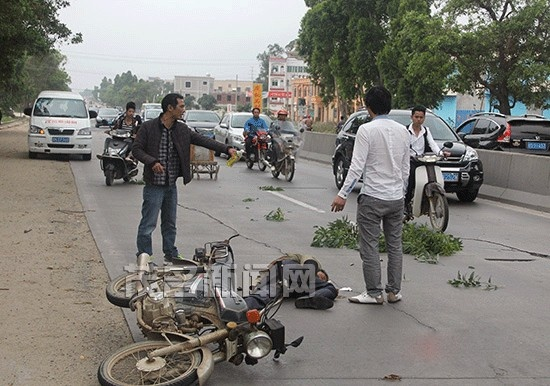falling: (224, 244, 343, 318)
